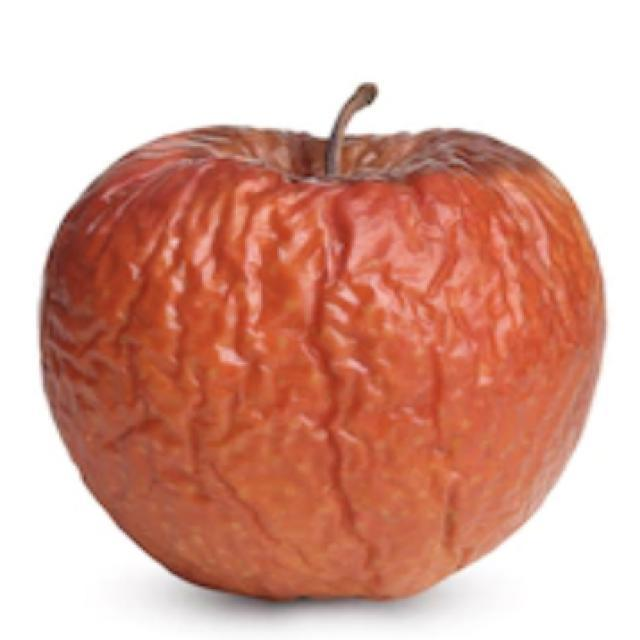Rotten: (36, 124, 596, 604)
